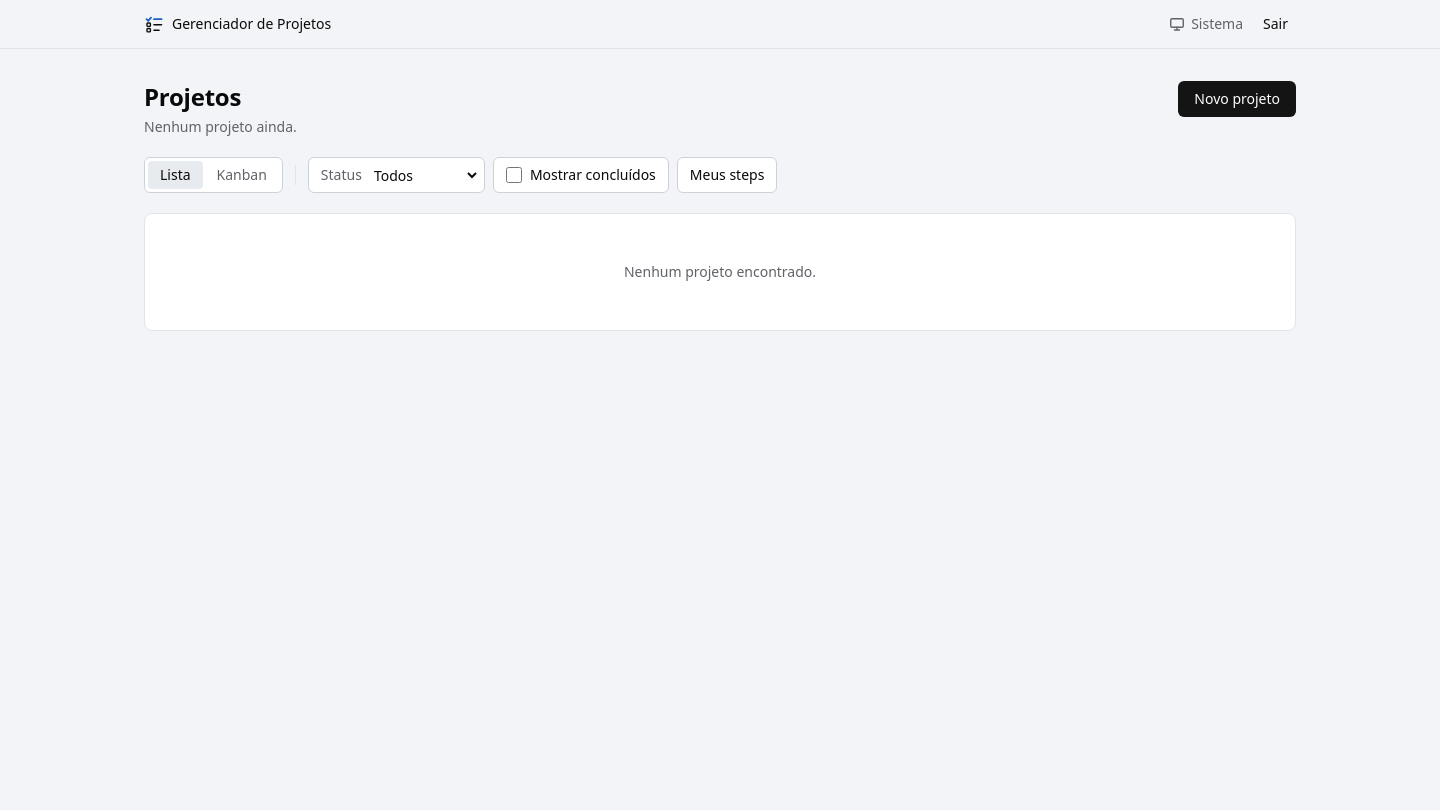
Test case: App › Novo projeto abre o detalhe de criação
Click the button "Novo projeto".
click(1237, 99)  # box [1178,81,1296,117]
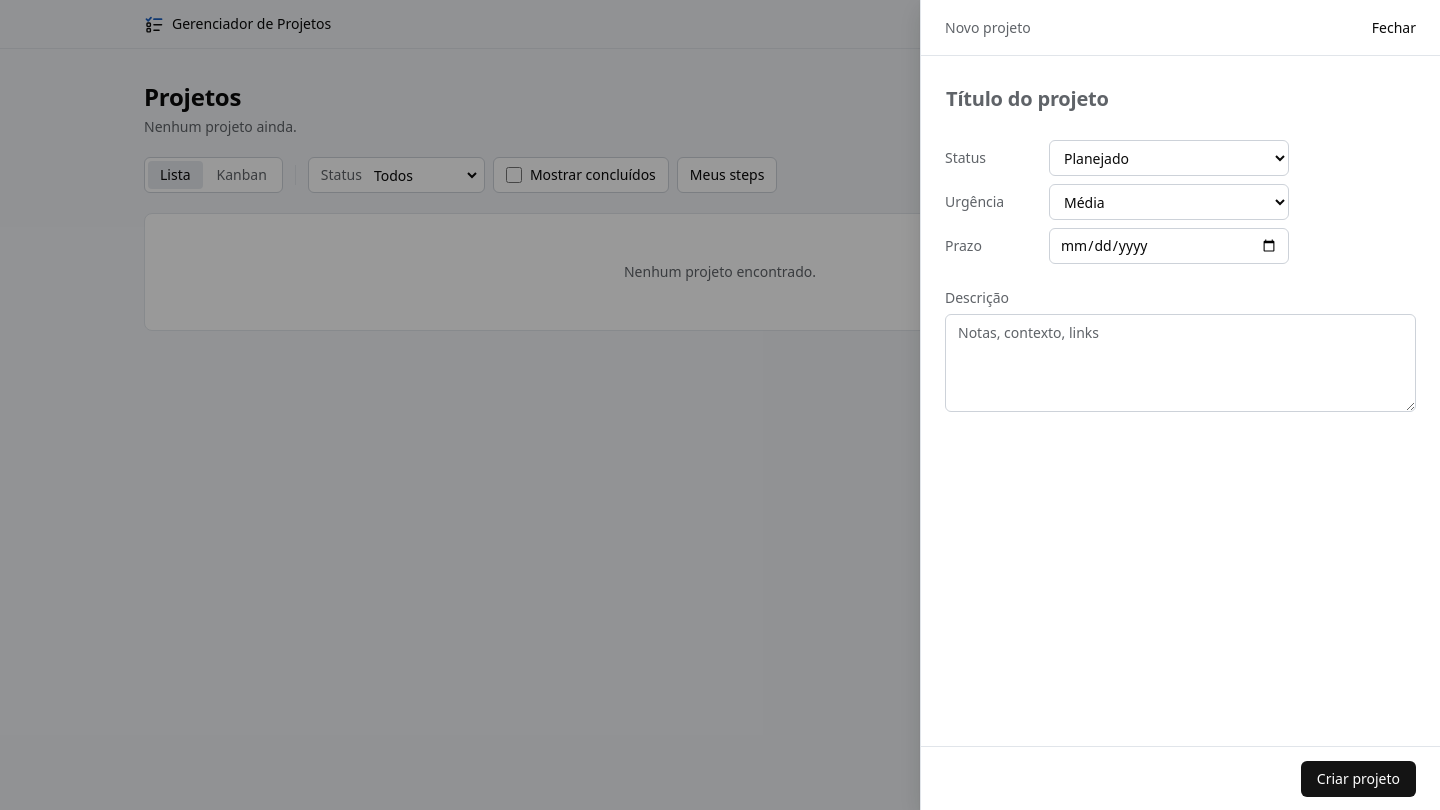
Result: the dialog is shown at [920,0,1439,809]
